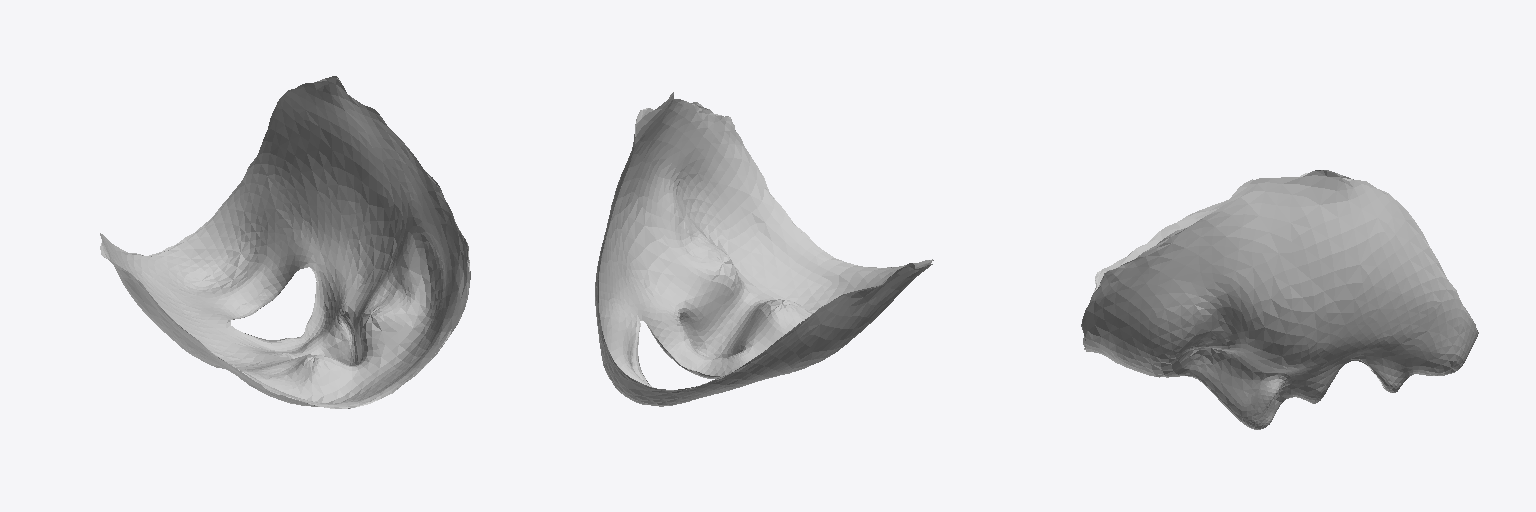
File: face_gab_sfm57.obj
3 views of the same model, side by side, from view 1: azimuth 30°, elevation 25°; view 2: azimuth 150°, elevation 25°; view 3: azimuth 270°, elevation 25° (orthographic).
Bounding box in the file's own units: 167 × 163 × 214.